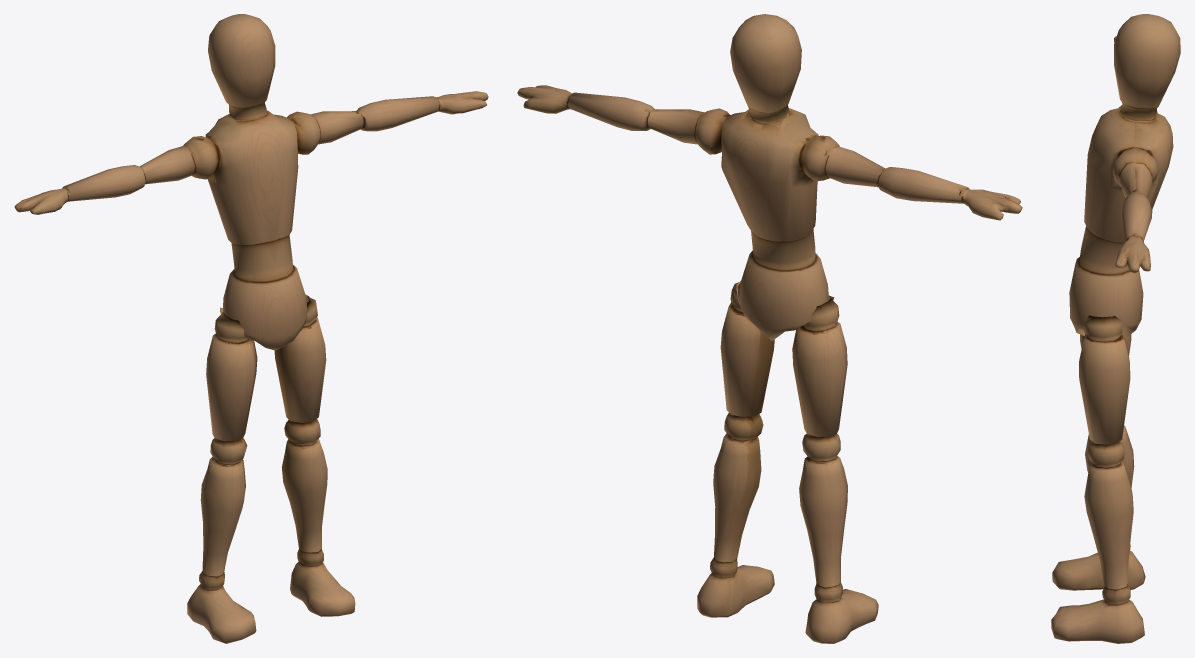
File: mannequin_female.glb
The picture shows the model from 3 angles, left to right: view 1: azimuth 30°, elevation 25°; view 2: azimuth 150°, elevation 25°; view 3: azimuth 270°, elevation 25°; orthographic projection. The views are drawn at different scales.
Parts seen in each view (by area): view 1: Mannequin; view 2: Mannequin; view 3: Mannequin.
Boxes of the visible parts, box(x1,y1,x2,y2) form: Mannequin: box(14, 14, 488, 643); Mannequin: box(517, 14, 1022, 643); Mannequin: box(1051, 14, 1180, 643).
Size of the model in its own units: 133 by 156 by 31.02.
1 material, 1 textured.
